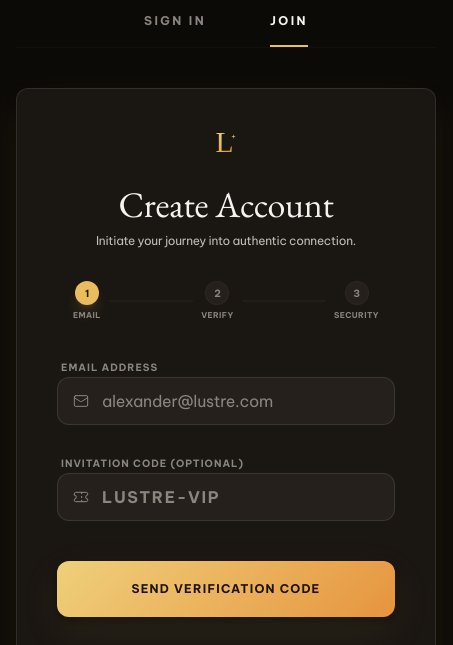
Register Page UI › preserves email when navigating back from step 2
The image size is (453, 645).
Type "backtest@lustre.com" into the field with placeholder "alexander@lustre.com".
click(226, 401); type("backtest@lustre.com")  # box [57,377,395,425]
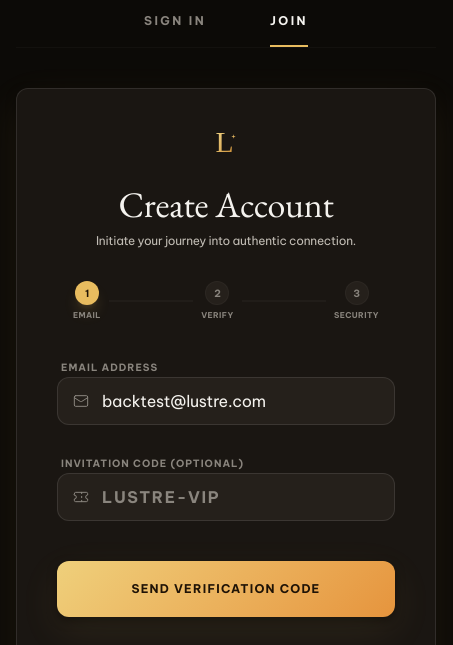
Submit the form with placeholder "alexander@lustre.com", box [57,353,395,617]
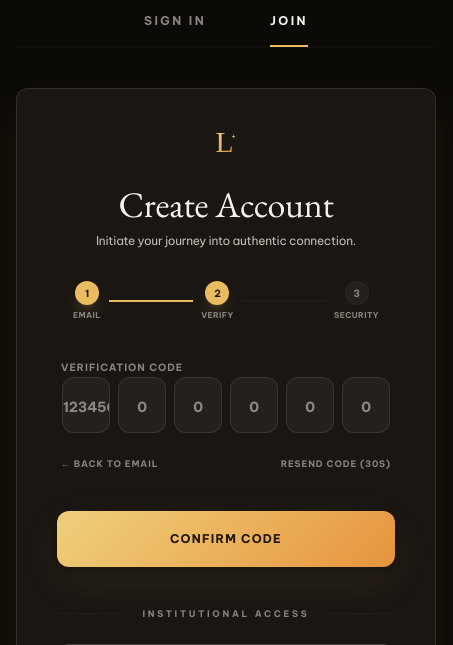
Check: the field with placeholder "123456" is shown, box [62,377,110,433]
Click the button "← Back to Email".
click(110, 464)  # box [61,457,158,470]
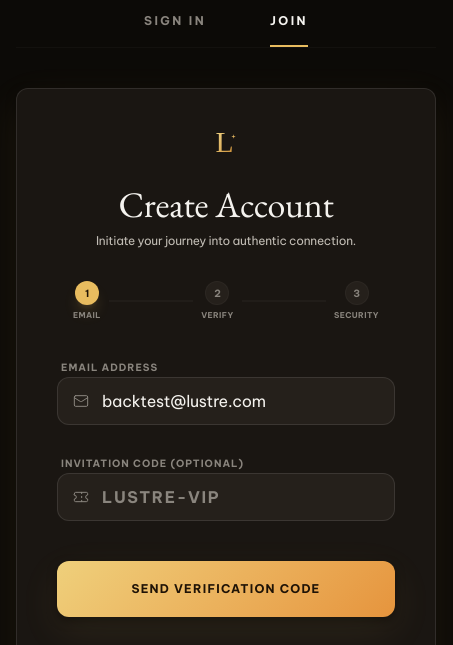
Check: the field showing "backtest@lustre.com" is shown, box [57,377,395,425]
